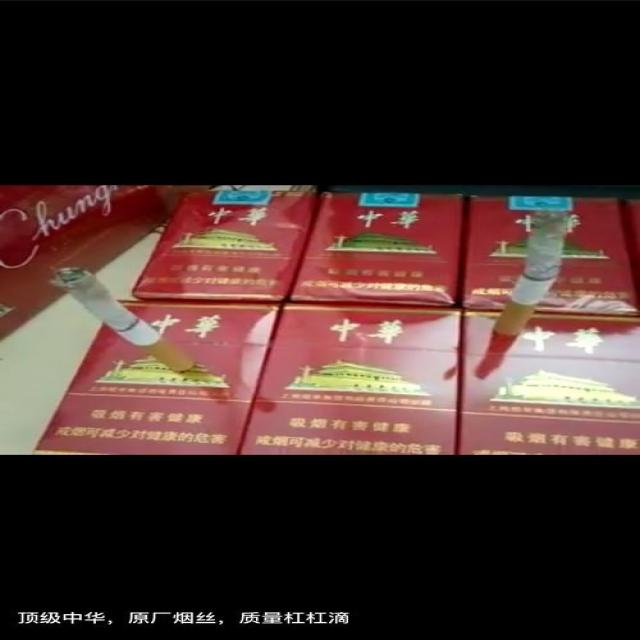box: (32, 300, 282, 454), (239, 303, 461, 454), (461, 311, 639, 456), (463, 195, 639, 317), (131, 187, 312, 300), (291, 191, 462, 307)
